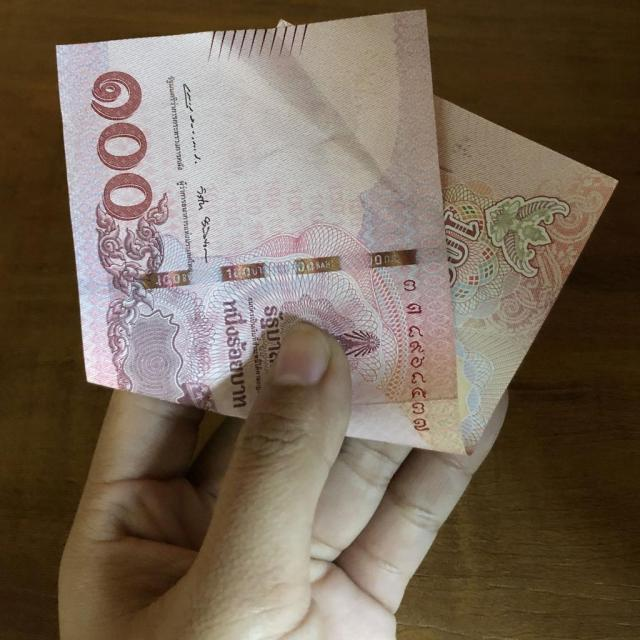THAI100: (57, 11, 616, 455)
